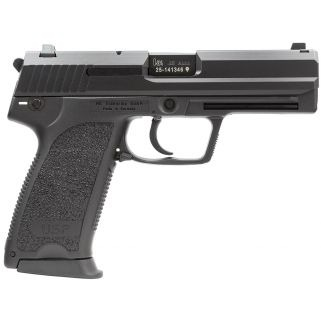gun: (2, 40, 321, 282)
